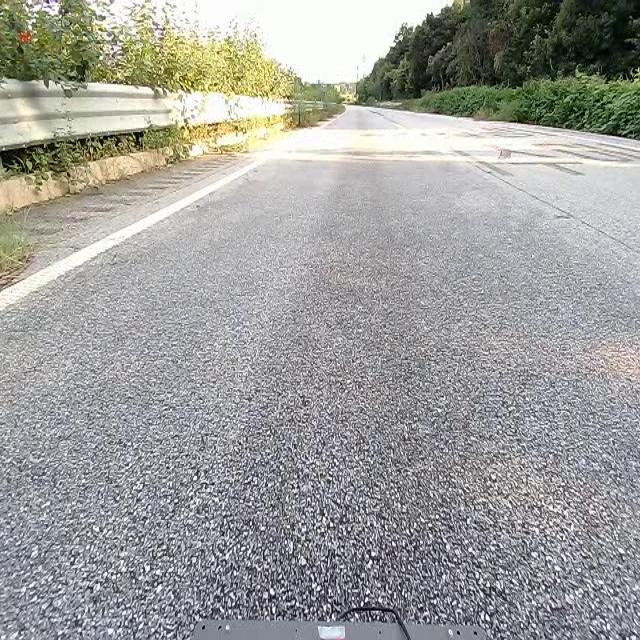Lane: (0, 142, 274, 308), (0, 153, 271, 312)
